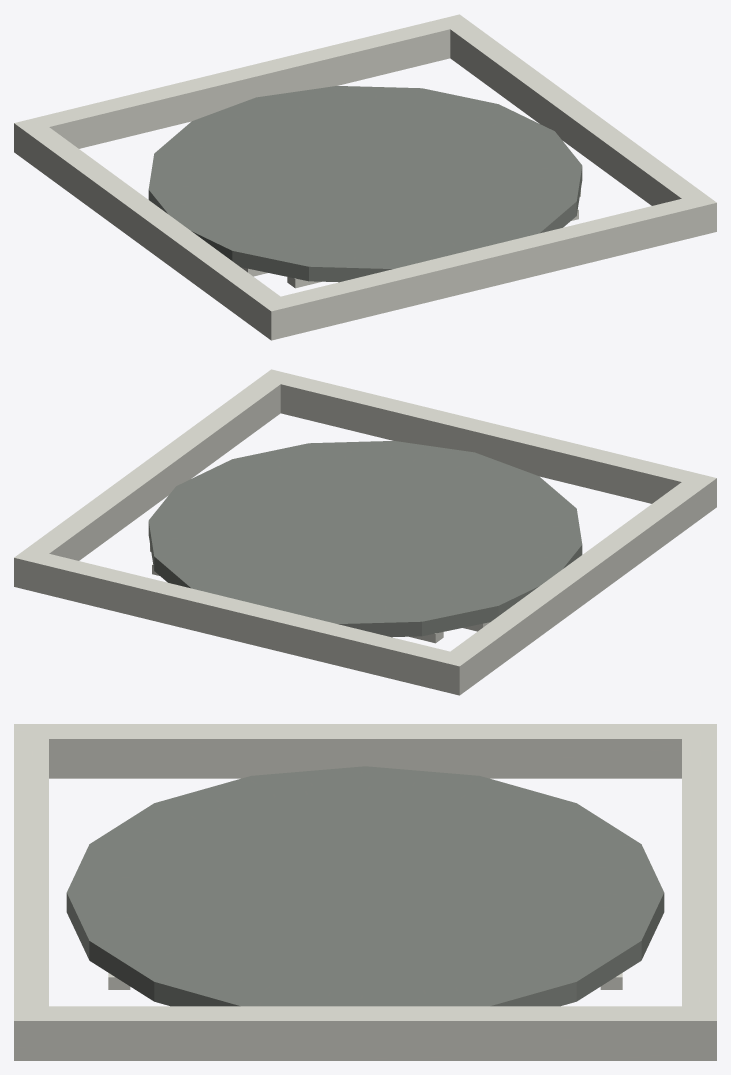
Rendered from ceiling_vent.glb.
3 views of the same model, one above another, from view 1: azimuth 30°, elevation 25°; view 2: azimuth 150°, elevation 25°; view 3: azimuth 270°, elevation 25° (orthographic). The views are drawn at different scales.
Visible parts, largest first — view 1: ceiling_vent; view 2: ceiling_vent; view 3: ceiling_vent.
Boxes of the visible parts, <box> form: ceiling_vent: <box>14,14,716,340</box>; ceiling_vent: <box>14,369,716,695</box>; ceiling_vent: <box>14,724,716,1060</box>.
Bounding box in the file's own units: 0.8 × 0.066 × 0.8.
1 material, 1 textured.
